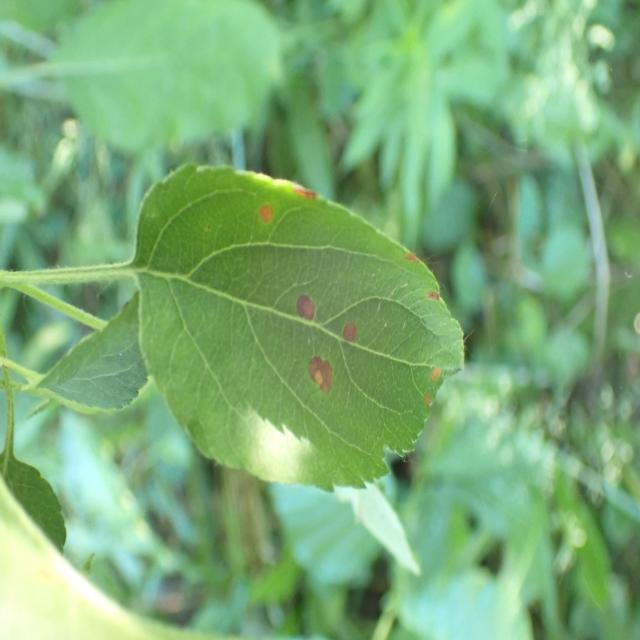frog-eye-leaf-spot: (132, 163, 466, 496)
